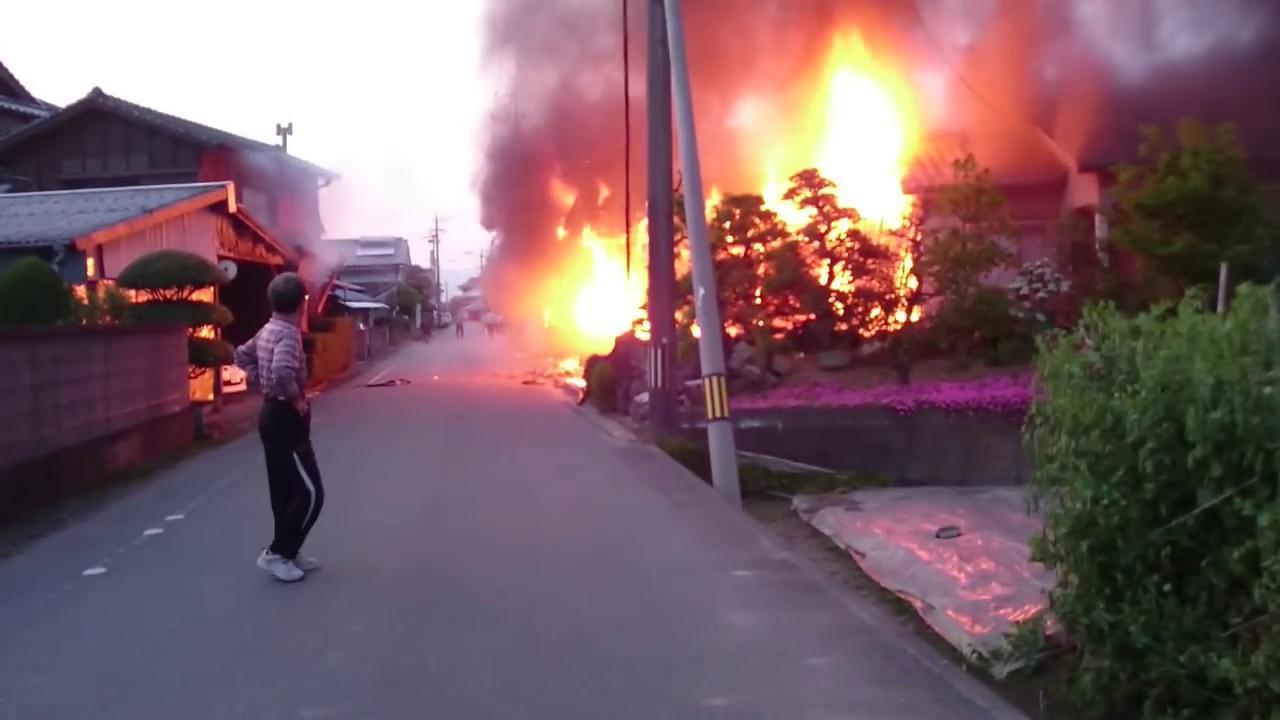Fire: (757, 37, 931, 340), (515, 178, 656, 391), (708, 184, 729, 225), (687, 320, 704, 340)
